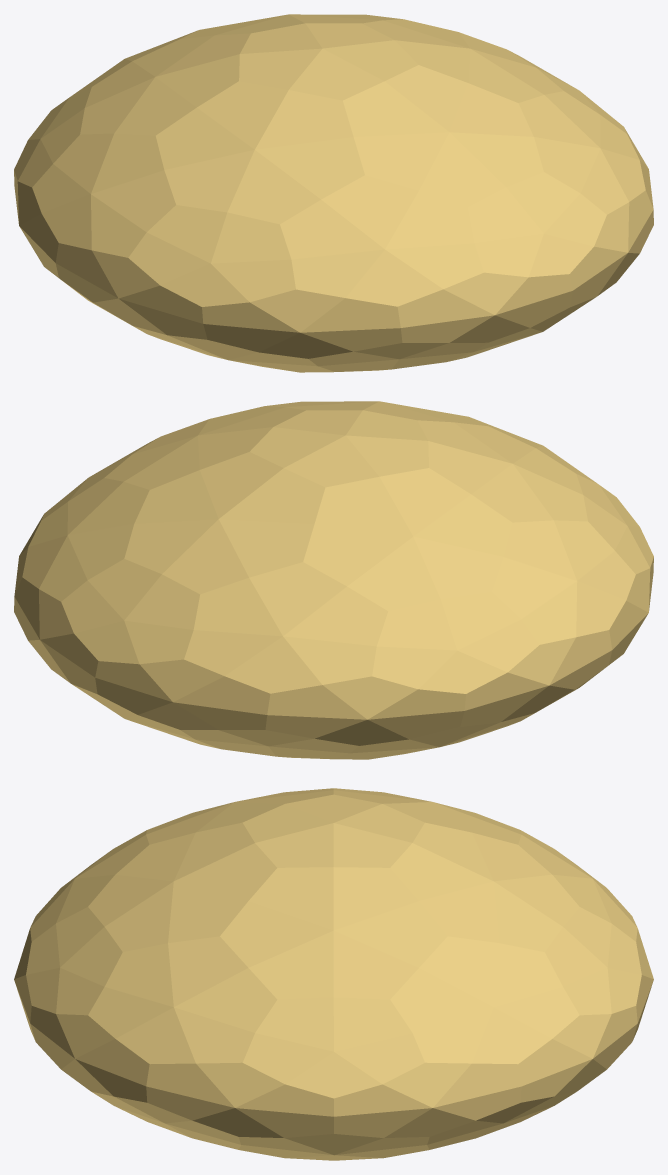
Rendered from Linemate.fbx.
3 renders of one model, top to bottom at view 1: azimuth 30°, elevation 25°; view 2: azimuth 150°, elevation 25°; view 3: azimuth 270°, elevation 25°, orthographic.
Visible parts, largest first — view 1: Icosphere; view 2: Icosphere; view 3: Icosphere.
Boxes of the visible parts, bbox=[...] form: Icosphere: bbox=[14, 14, 653, 372]; Icosphere: bbox=[14, 401, 653, 759]; Icosphere: bbox=[14, 788, 653, 1160].
Bounding box in the file's own units: 53.26 × 26.65 × 53.36.
